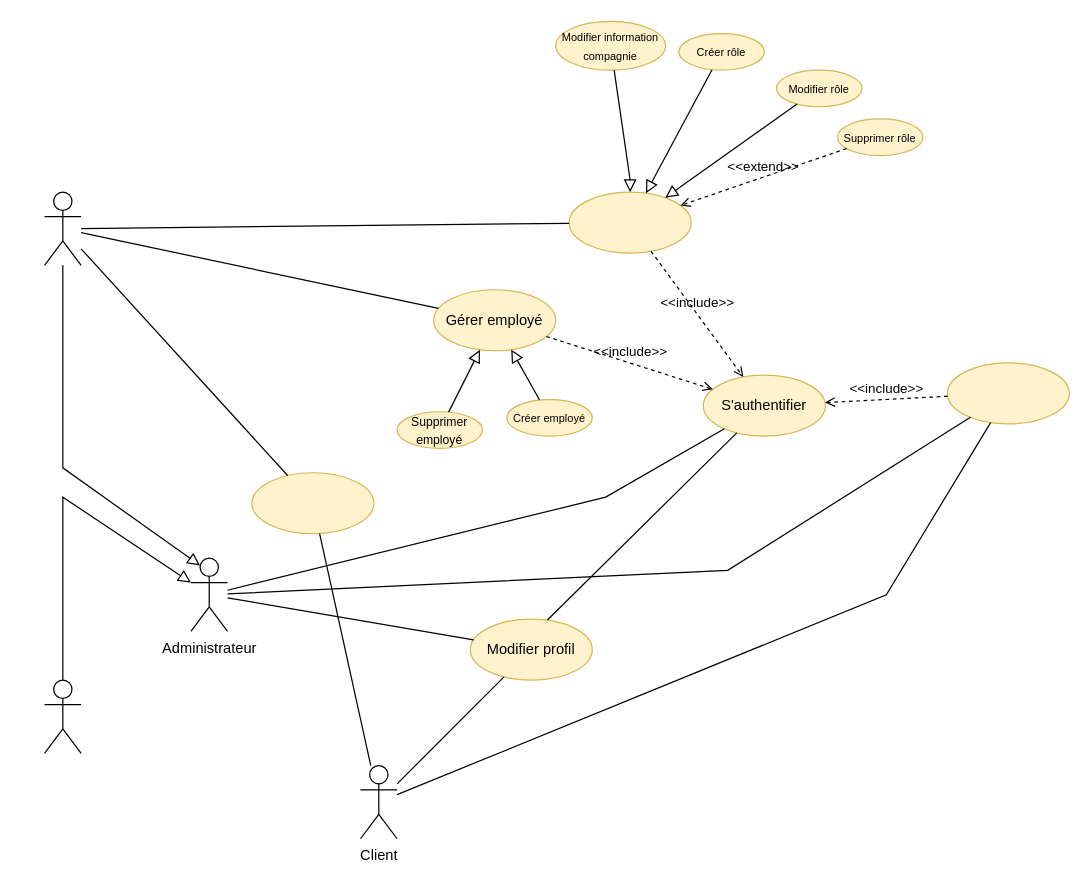
Image size: 1091x886. Some labels were removed from this diagram. Here are the shapes that lost their labels. From the top down, the centre of each, then its label:
point (62, 228): Manager
point (629, 222): Gérer compagnie
point (1007, 393): Se déconnecter
point (312, 503): S'inscrire
point (62, 716): Transporteur
